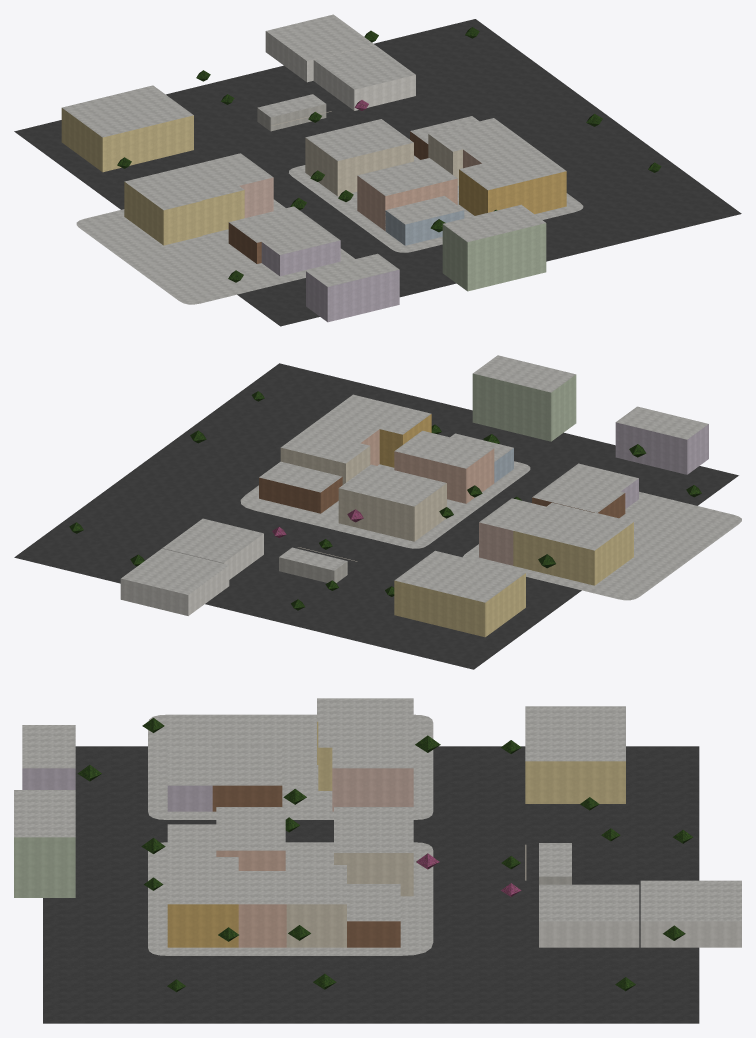
File: cidade_S05_06_lod.gltf
The picture shows the model from 3 angles, top to bottom: view 1: azimuth 30°, elevation 25°; view 2: azimuth 150°, elevation 25°; view 3: azimuth 270°, elevation 25°; orthographic projection. The views are drawn at different scales.
Parts seen in each view (by area): view 1: S05_06_Edificios_LOD1, S05_06_Chao_LOD2, S05_06_Vegetacao_LOD2; view 2: S05_06_Chao_LOD2, S05_06_Edificios_LOD1, S05_06_Vegetacao_LOD2; view 3: S05_06_Chao_LOD2, S05_06_Edificios_LOD1, S05_06_Vegetacao_LOD2.
Boxes of the visible parts, <box> form: S05_06_Edificios_LOD1: <box>61,14,566,322</box>; S05_06_Chao_LOD2: <box>14,19,741,326</box>; S05_06_Vegetacao_LOD2: <box>117,27,661,282</box>; S05_06_Chao_LOD2: <box>14,363,741,669</box>; S05_06_Edificios_LOD1: <box>120,355,708,637</box>; S05_06_Vegetacao_LOD2: <box>69,391,701,610</box>; S05_06_Chao_LOD2: <box>43,714,699,1023</box>; S05_06_Edificios_LOD1: <box>14,698,741,947</box>; S05_06_Vegetacao_LOD2: <box>77,718,693,992</box>.
Bounding box in the file's own units: 111 × 10.37 × 111.
Materials: 16 (16 with a texture image).
